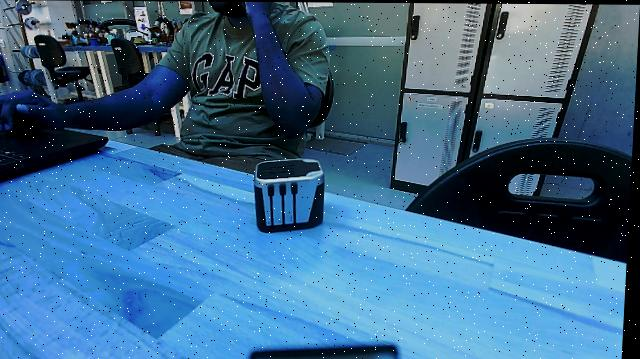adapter: (251, 157, 334, 235)
